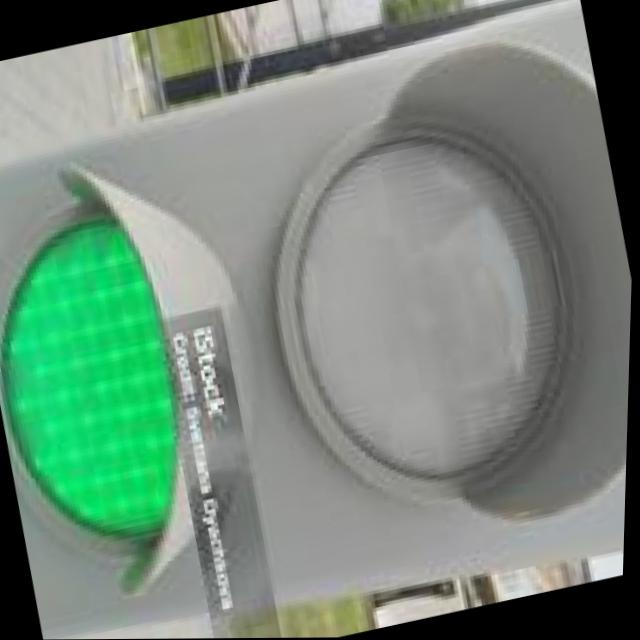green_light: (0, 115, 308, 617)
